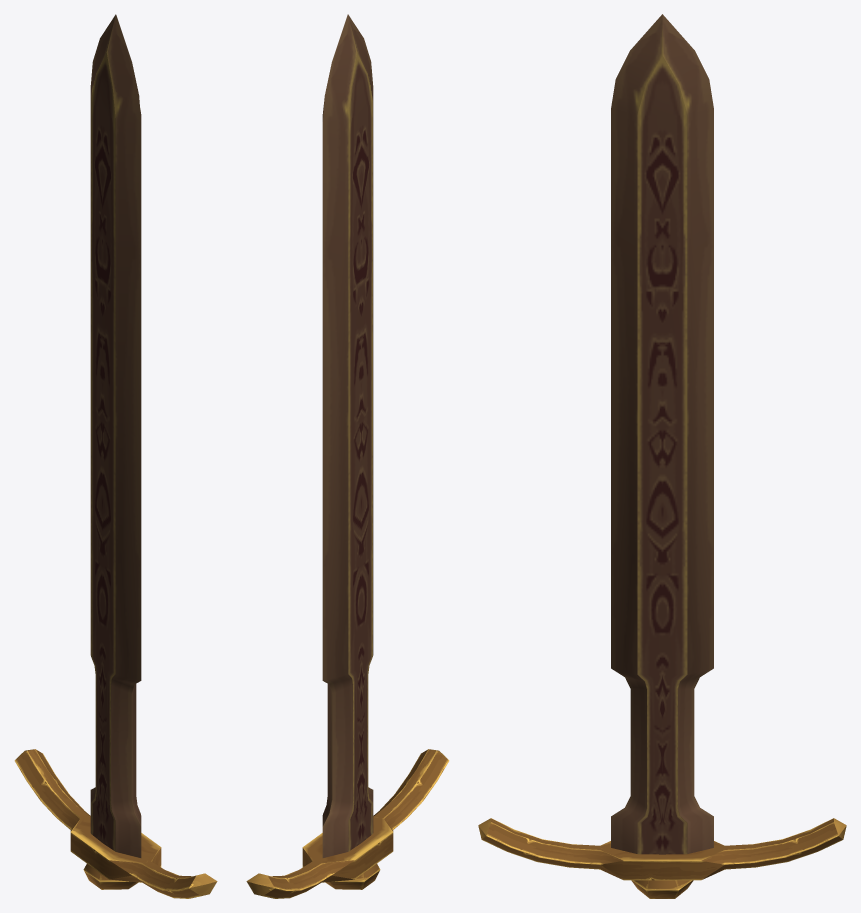
File: SM_WEP_head_sword_battle_10.fbx
The picture shows the model from 3 angles, left to right: view 1: azimuth 30°, elevation 25°; view 2: azimuth 150°, elevation 25°; view 3: azimuth 270°, elevation 25°; orthographic projection.
Visible parts, largest first — view 1: SM_WEP_head_sword_battle_10; view 2: SM_WEP_head_sword_battle_10; view 3: SM_WEP_head_sword_battle_10.
Part boxes in pixels (x1,y1,x2,y2): SM_WEP_head_sword_battle_10: (14,14,217,898); SM_WEP_head_sword_battle_10: (246,14,449,898); SM_WEP_head_sword_battle_10: (478,14,846,898).
Size of the model in its own units: 7.51 by 118 by 45.12.
